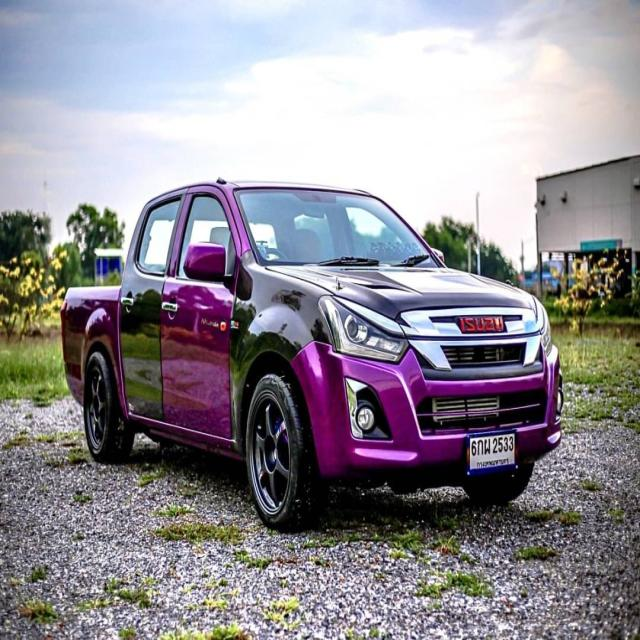license_plate: (467, 421, 522, 482)
